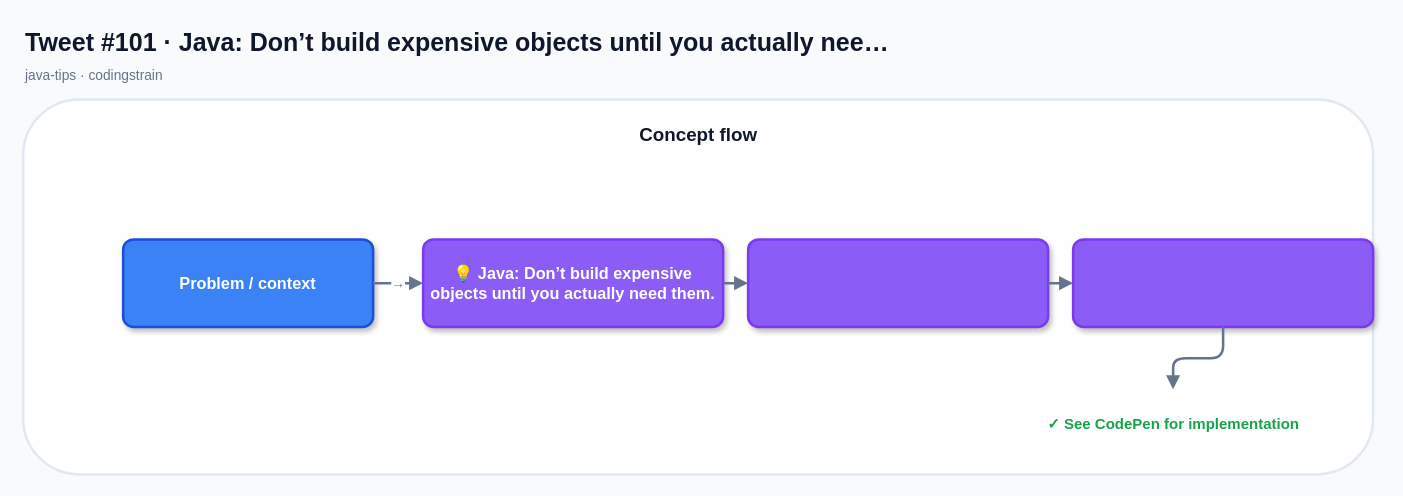
Image size: 1403x496. Some labels were removed from this diagram. The shapes that lost their labels are listed below. From the top down, each one's centre as x and y in pixels, then its label:
At point 898,284: "Eager fields waste time/memory if the path never runs".
At point 1223,284: "Lazy-load on first use (or use Supplier / holder)".
